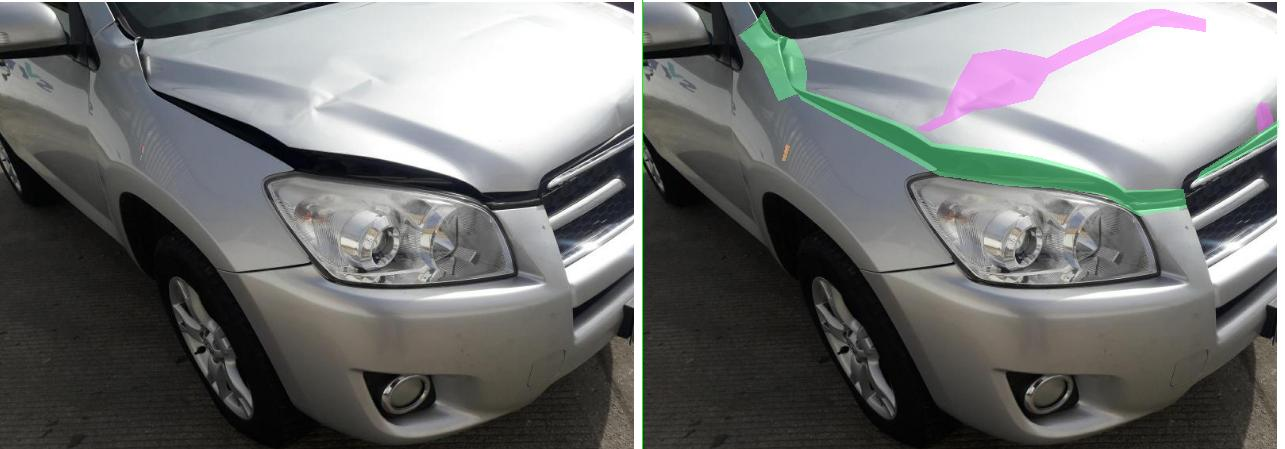Broken part: (306, 88, 1087, 215), (192, 10, 326, 100), (1107, 120, 1271, 180)
Dent: (548, 9, 1125, 131), (1227, 102, 1263, 135)
Paint chip: (278, 144, 292, 160)
